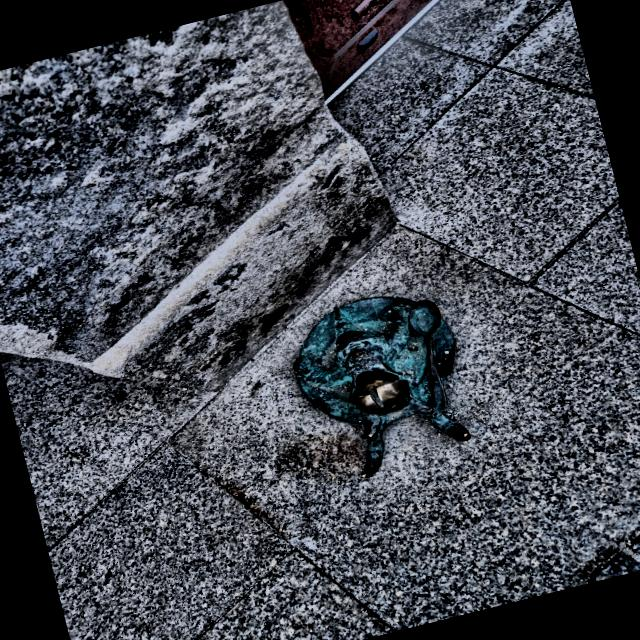Obiezysmak: (295, 297, 469, 477)
